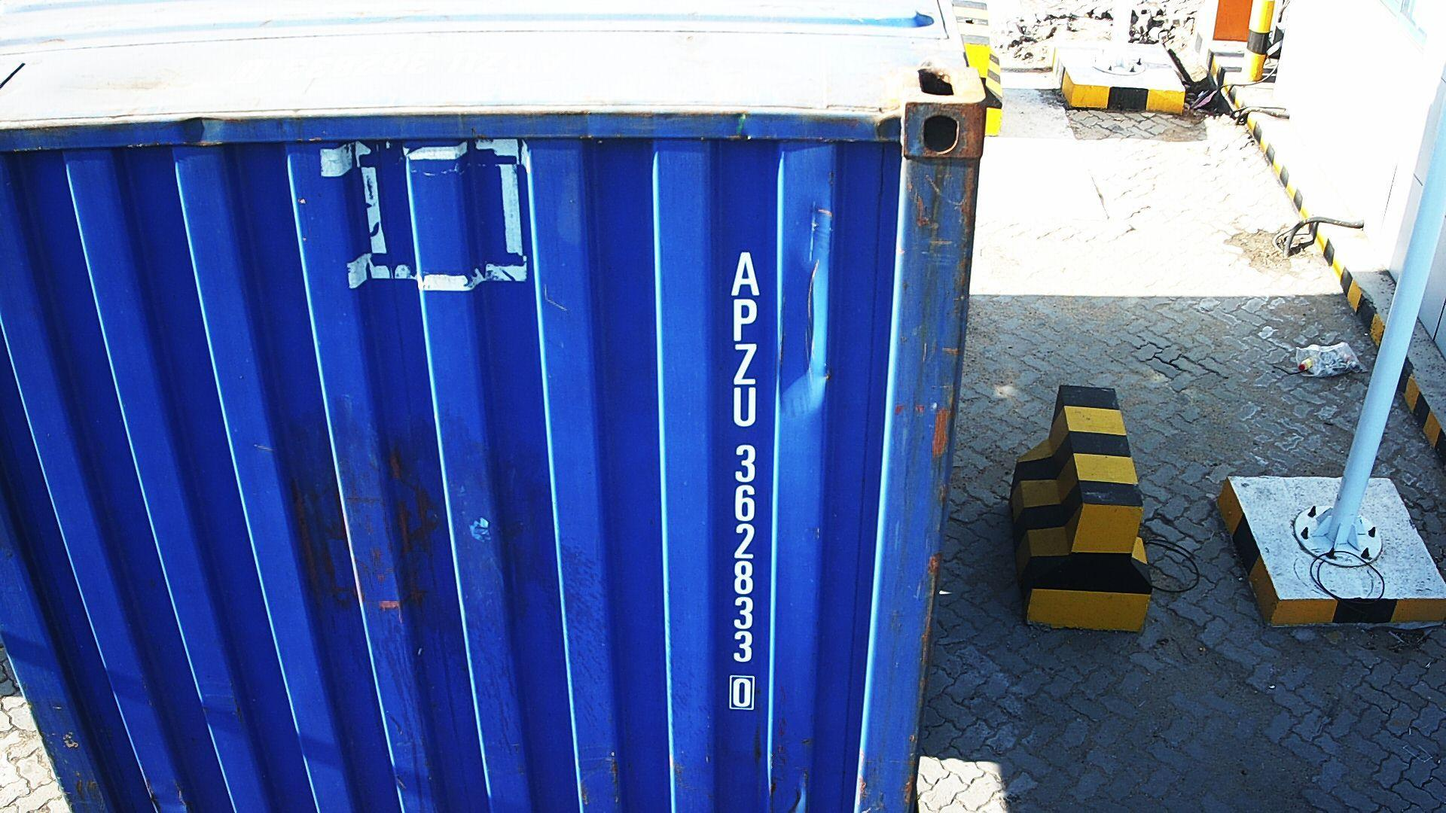container-numbers: (721, 242, 767, 716)
